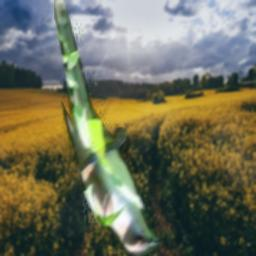Cuckoo: (54, 0, 164, 256)
